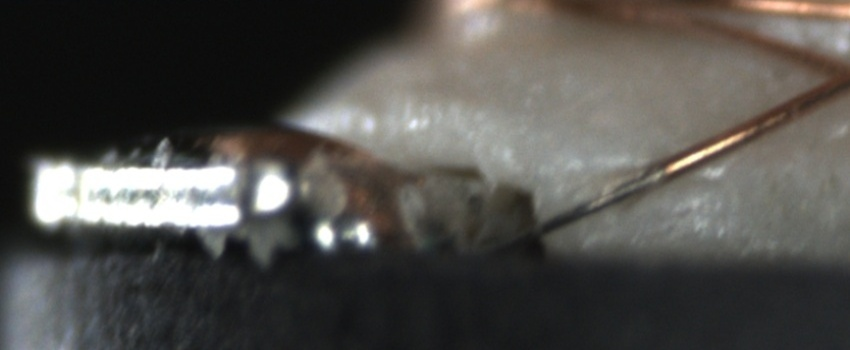CL: (803, 41, 850, 102)
DL: (581, 155, 728, 201)
TS: (438, 166, 667, 261)
TTCW: (481, 142, 709, 257)
